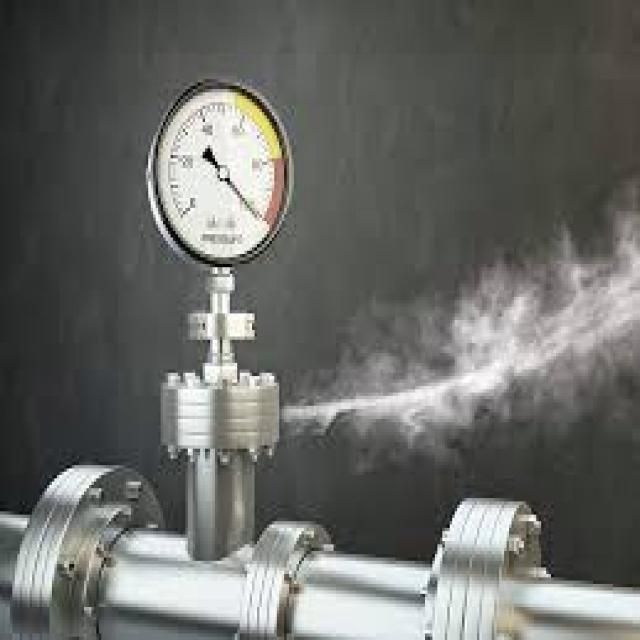corrosion: (248, 324, 507, 512)
